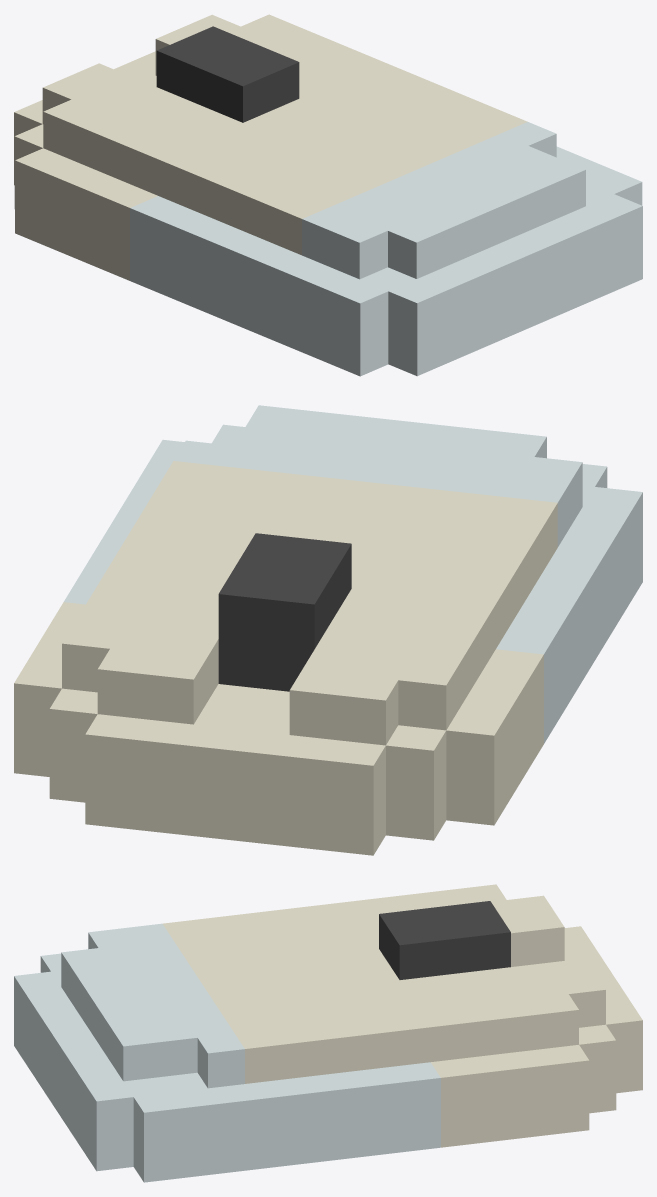
The model's file is mouse_0_lev1_lev3.glb.
3 renders of one model, top to bottom at view 1: azimuth 30°, elevation 25°; view 2: azimuth 150°, elevation 25°; view 3: azimuth 270°, elevation 25°, orthographic. The views are drawn at different scales.
Parts seen in each view (by area): view 1: mouse_0_lev1_lev3; view 2: mouse_0_lev1_lev3; view 3: mouse_0_lev1_lev3.
Boxes of the visible parts, box(x1,y1,x2,y2) form: mouse_0_lev1_lev3: box(14, 14, 642, 376); mouse_0_lev1_lev3: box(14, 405, 642, 855); mouse_0_lev1_lev3: box(14, 884, 642, 1182).
Bounding box in the file's own units: 0.2885 × 0.0898 × 0.3666.
Materials: 1 (1 with a texture image).
